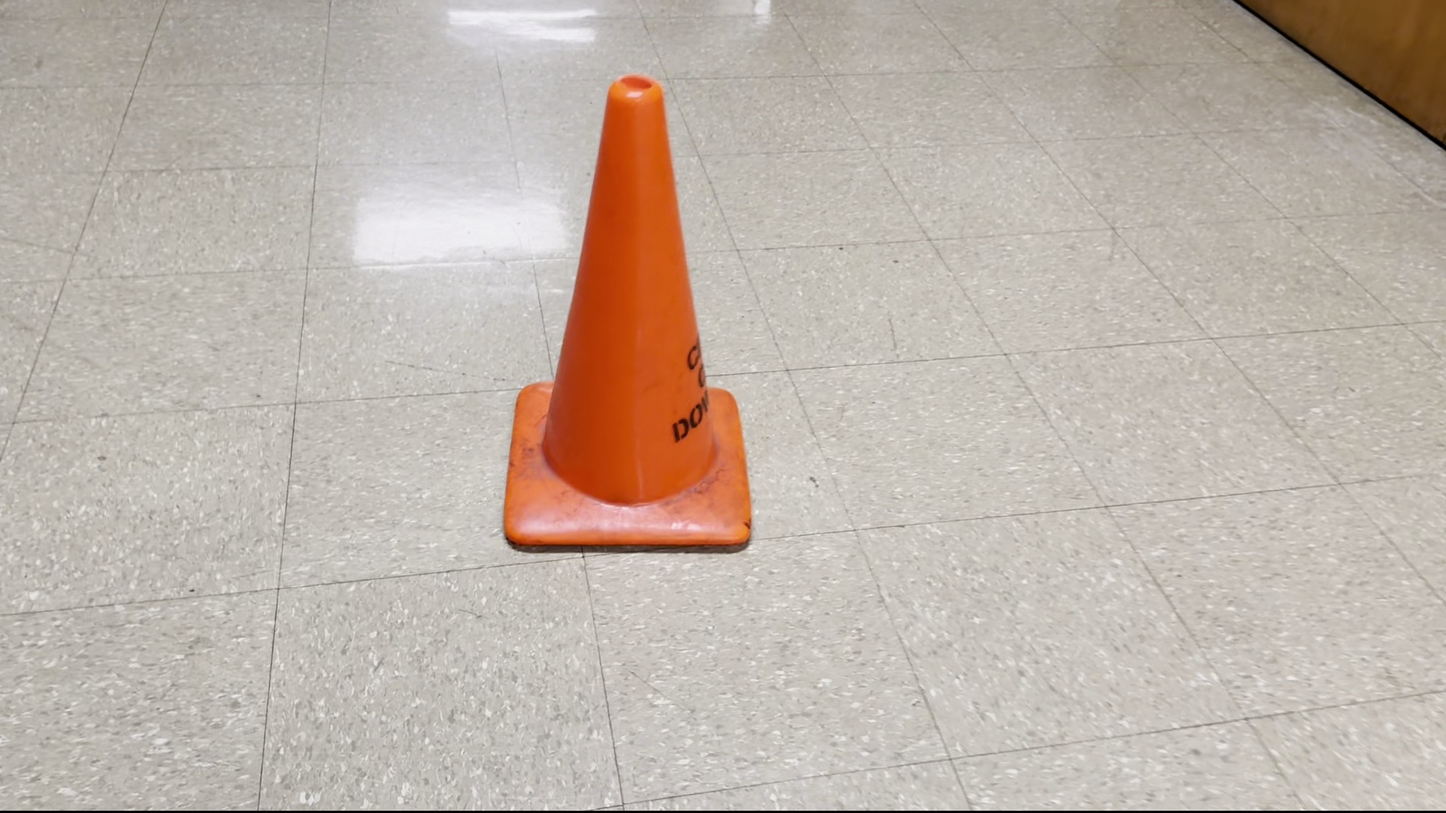traffic_cone: (502, 73, 753, 550)
